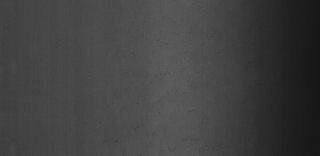silk spot: (136, 32, 187, 120)
